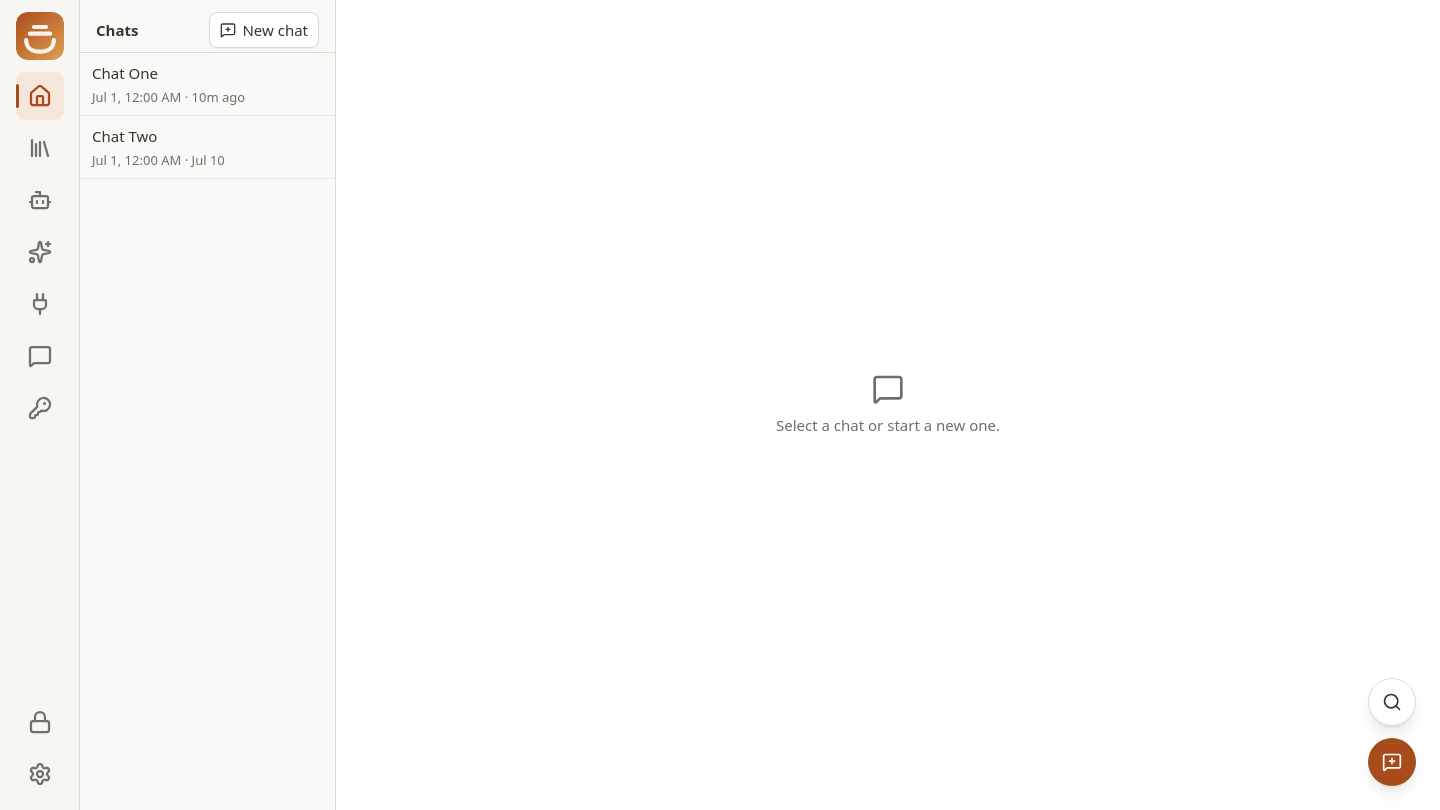
New chat creates a chat and selects it
Expected: the text "Chat One" is shown, [92,61,158,85]
Click the button "New chat": (264, 30) [209,12,319,48]
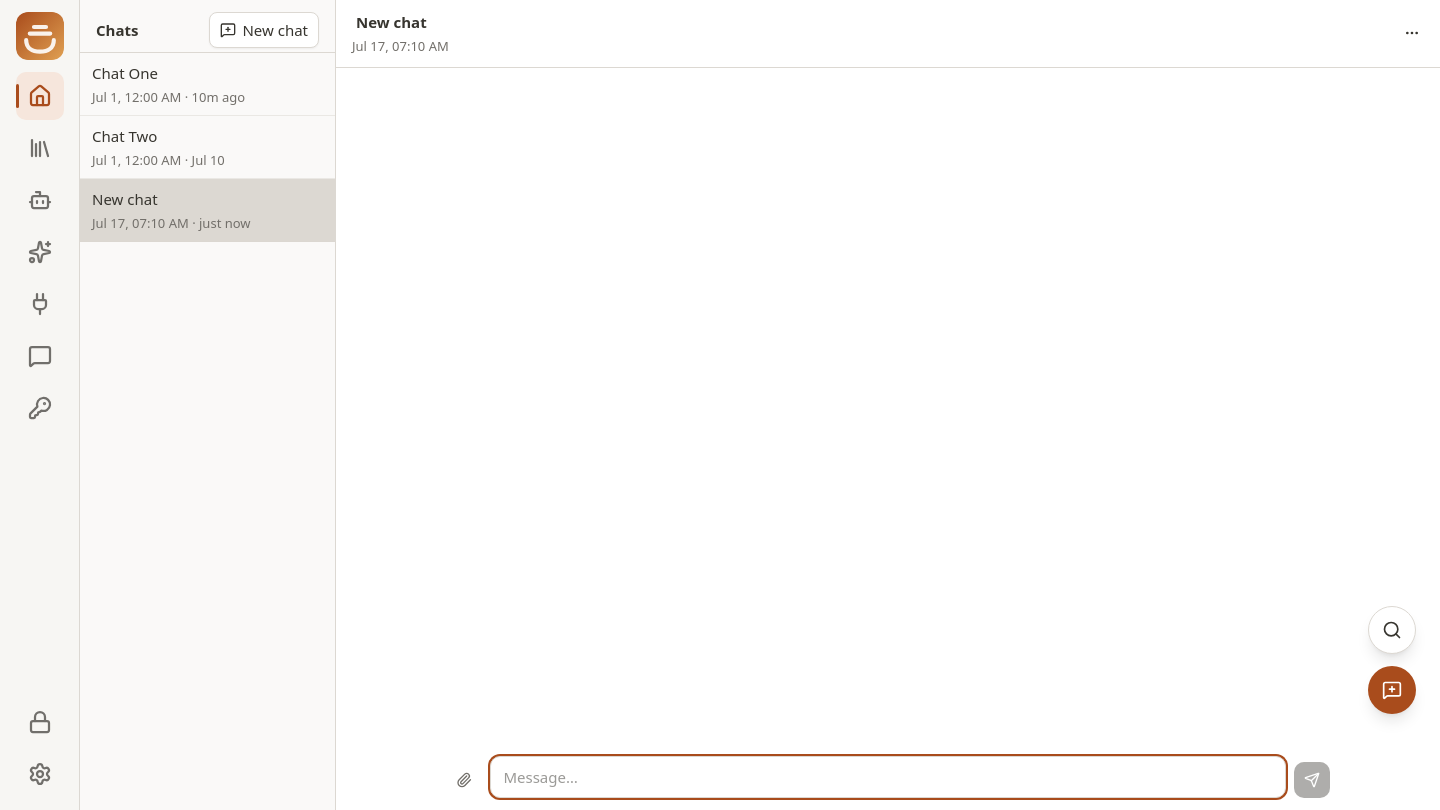
Result: the heading "New chat" is shown at [356,12,427,32]
